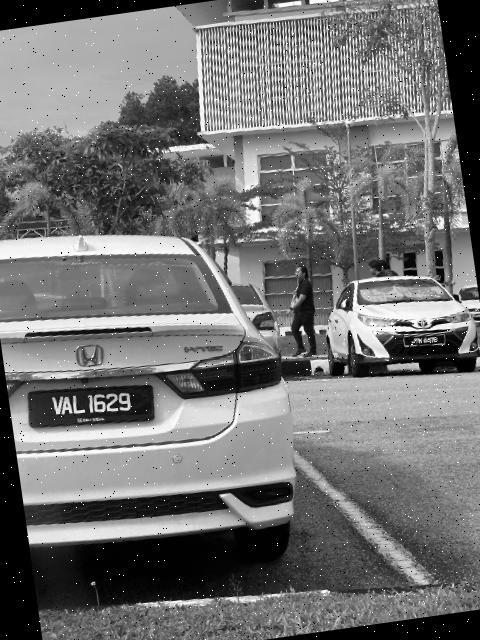License_Plate: (24, 375, 162, 444), (402, 331, 448, 355)
VAL1629: (24, 375, 162, 444)
car: (1, 189, 314, 598)
